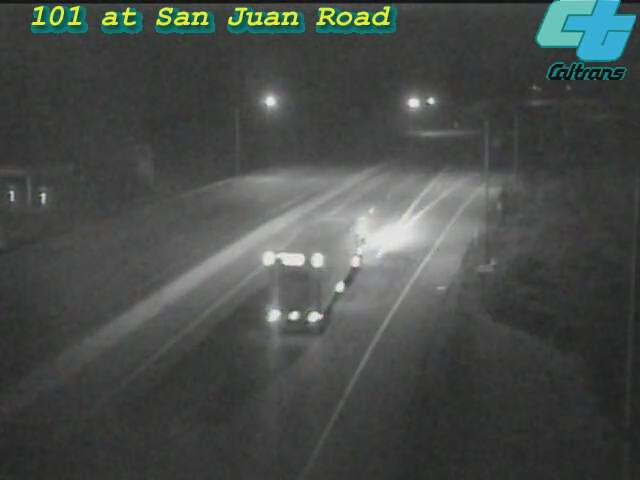vehicle: (278, 231, 358, 311)
